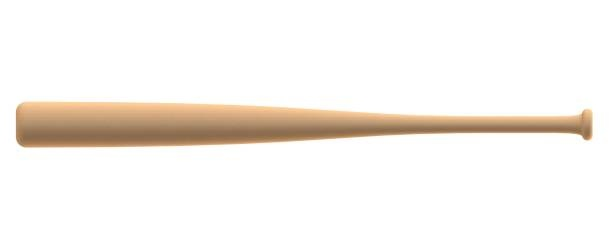bita: (16, 96, 588, 150)
